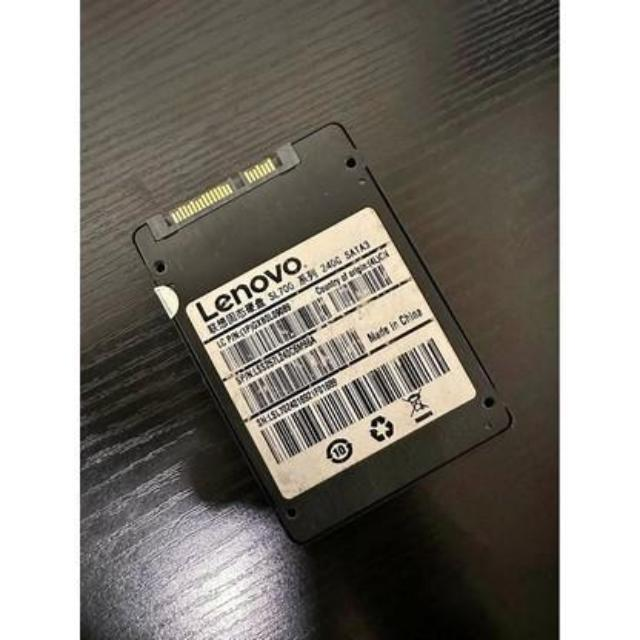DISK: (130, 117, 510, 546)
